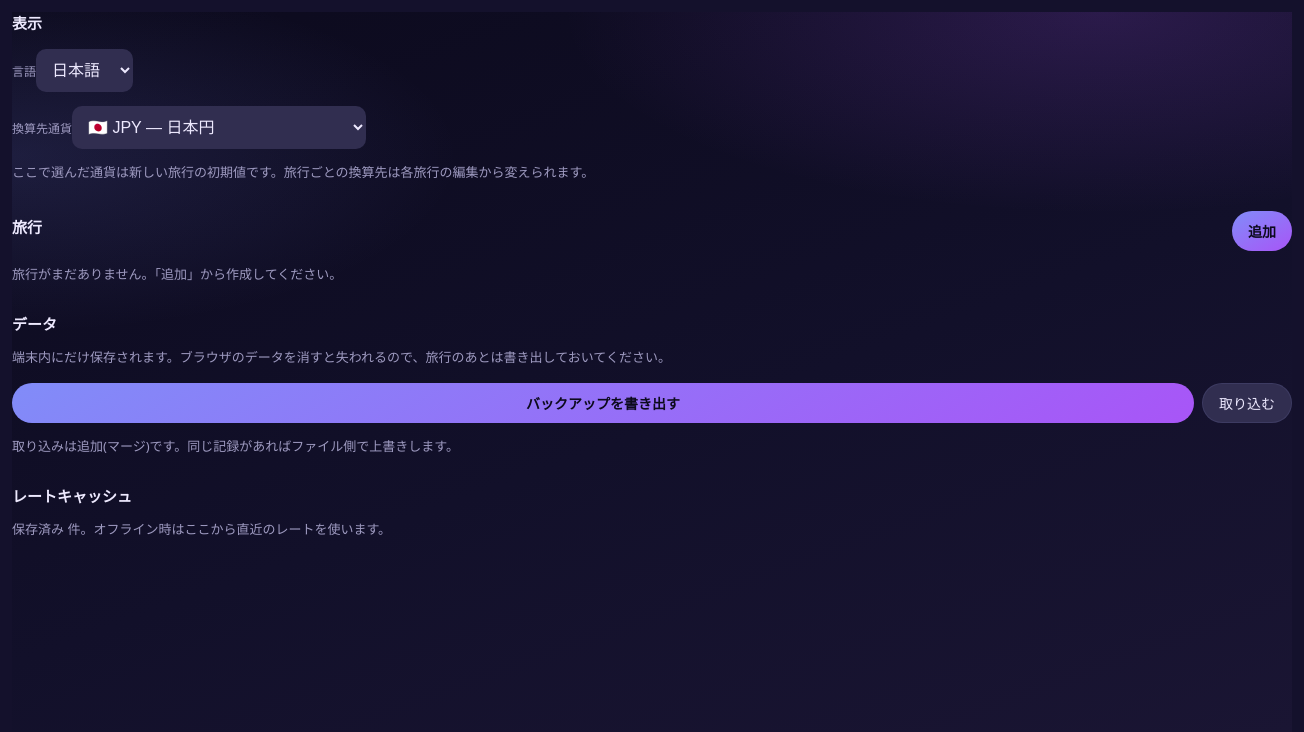
Test: SettingsScreen のエクスポート › 正常時は「バックアップを書き出しました」が出る
Click the button "バックアップを書き出す": (603, 403) [12,383,1194,423]
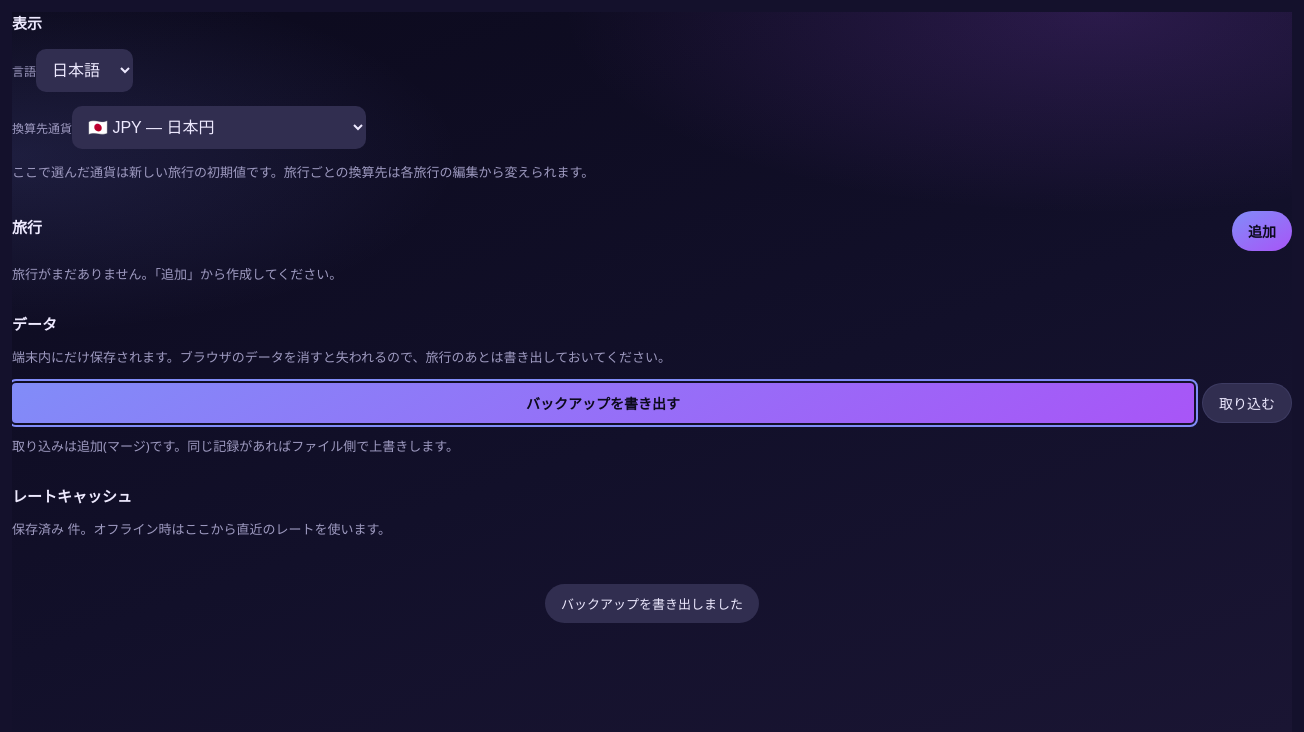
expect the text "バックアップを書き出しました" is shown: met, box [545,584,759,623]
